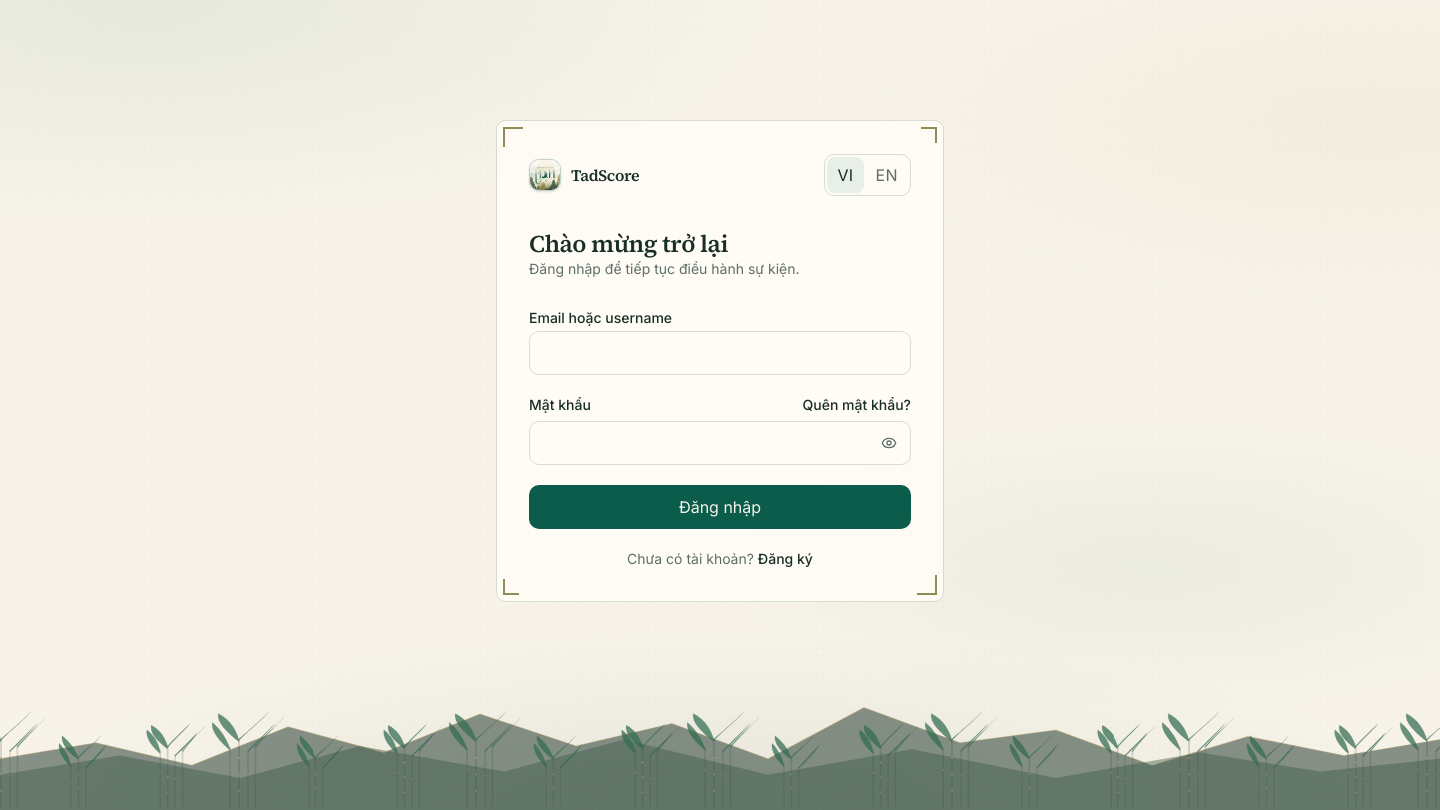
Test: auth flow › returns to the protected route after a successful login
The width and height of the screenshot is (1440, 810).
Expected: the heading "Chào mừng trở lại" is shown, [529,227,728,260]
In the field labelled "Email hoặc username": (720, 353) [529,331,911,375], type "a@example.test"
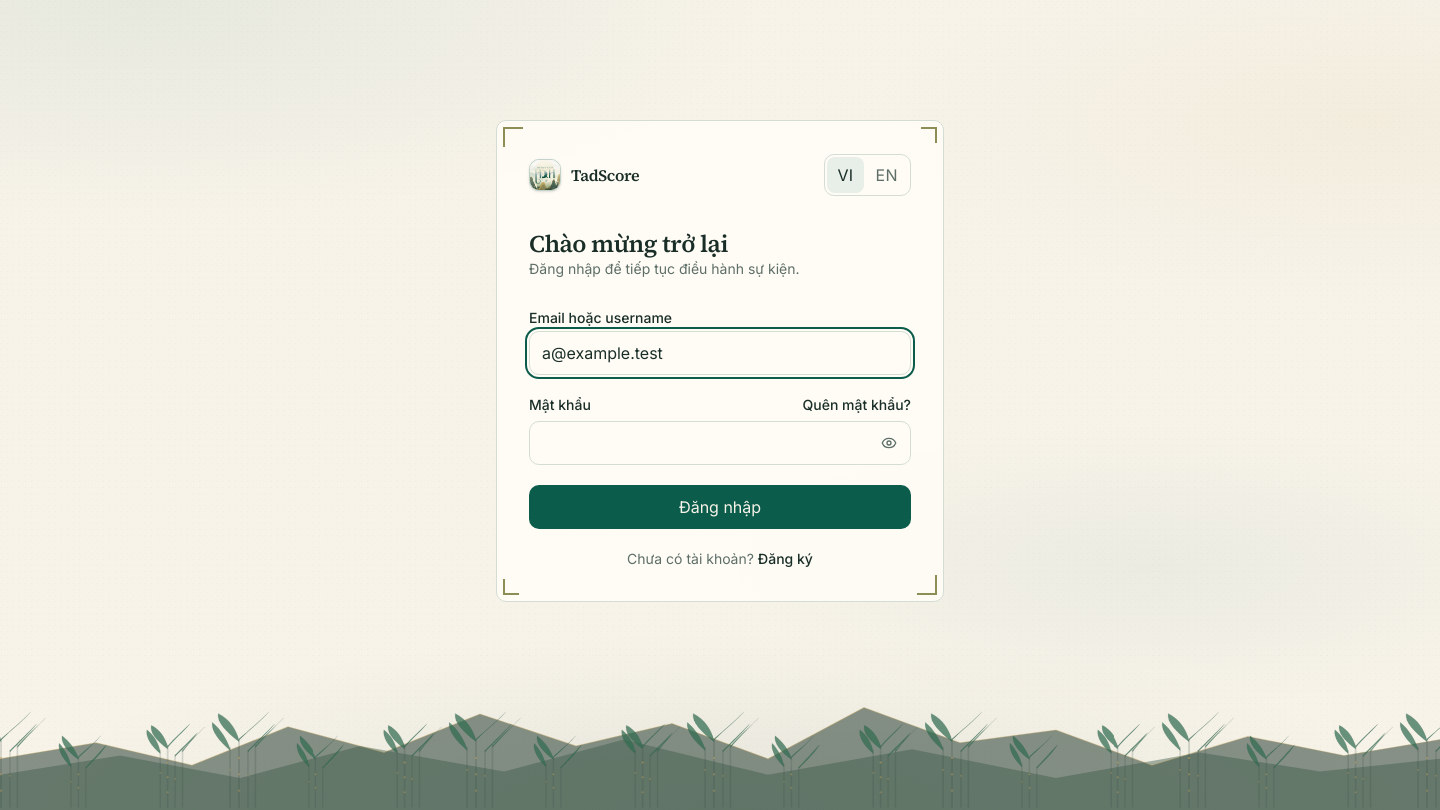
In the password field labelled "Mật khẩu": (720, 443) [529,421,911,465], type "TestPass123!"
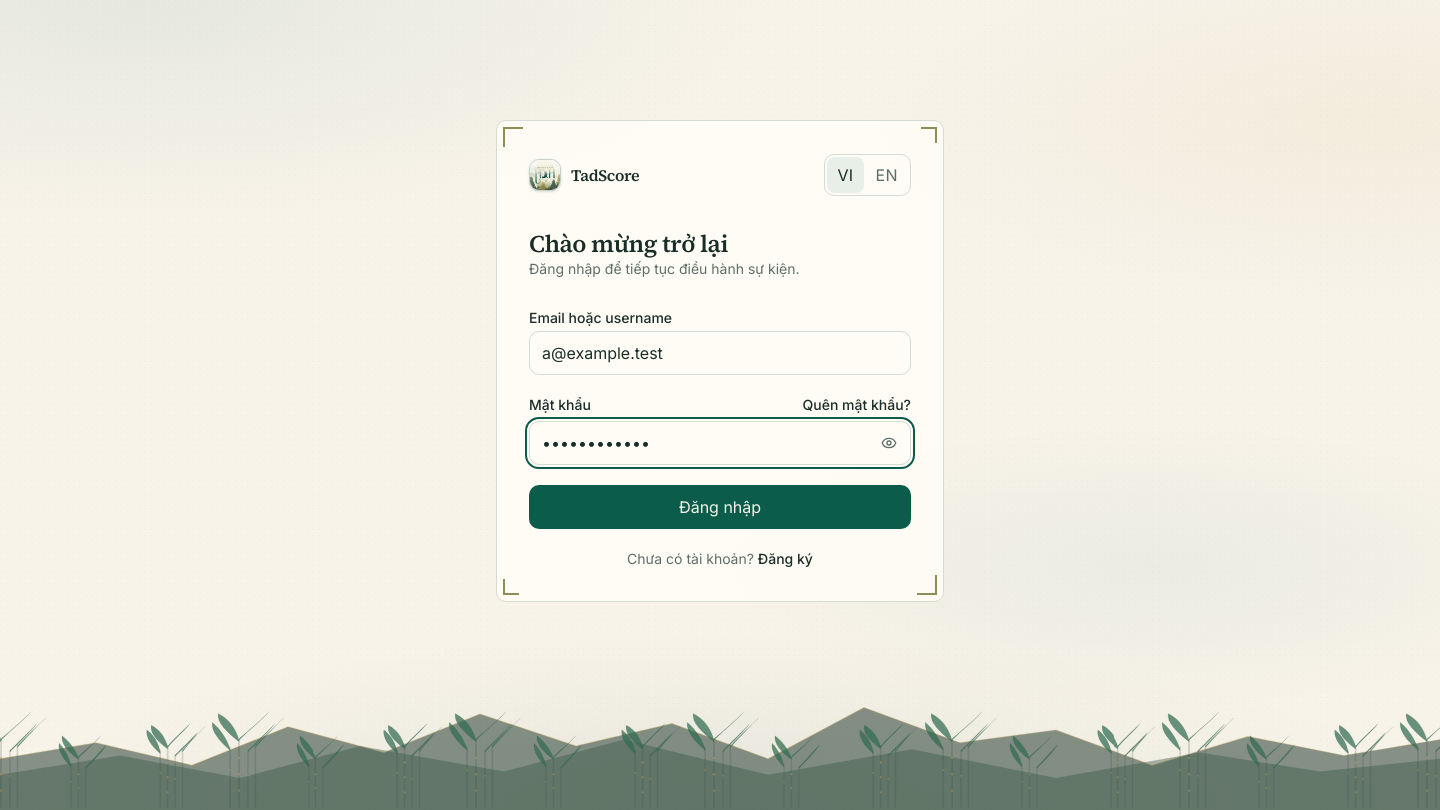
Click the button "Đăng nhập": (720, 507) [529,485,911,529]
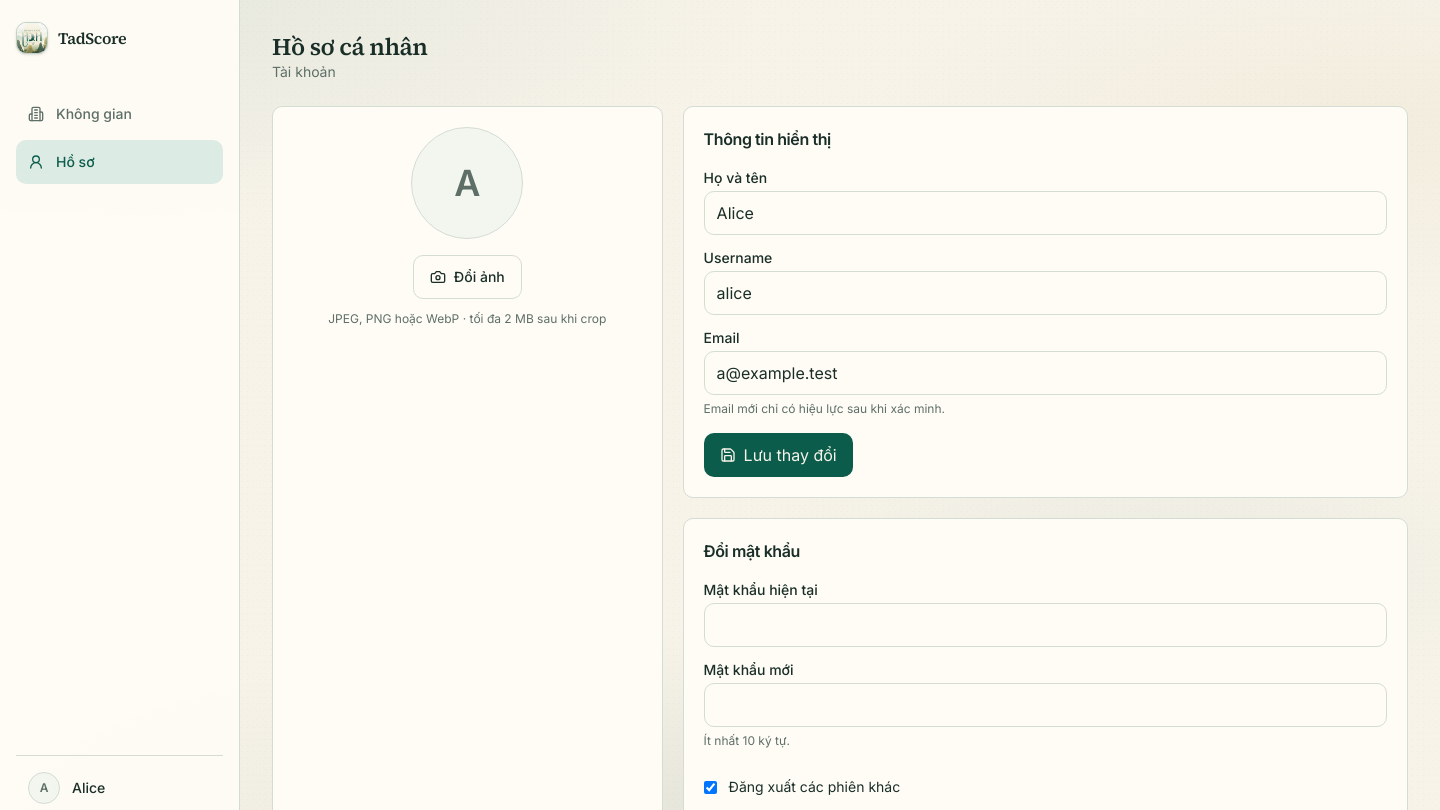
Now the heading "Hồ sơ cá nhân" is shown, box [272,32,428,62]
Now the field showing "Alice" is shown, box [704,191,1387,235]
